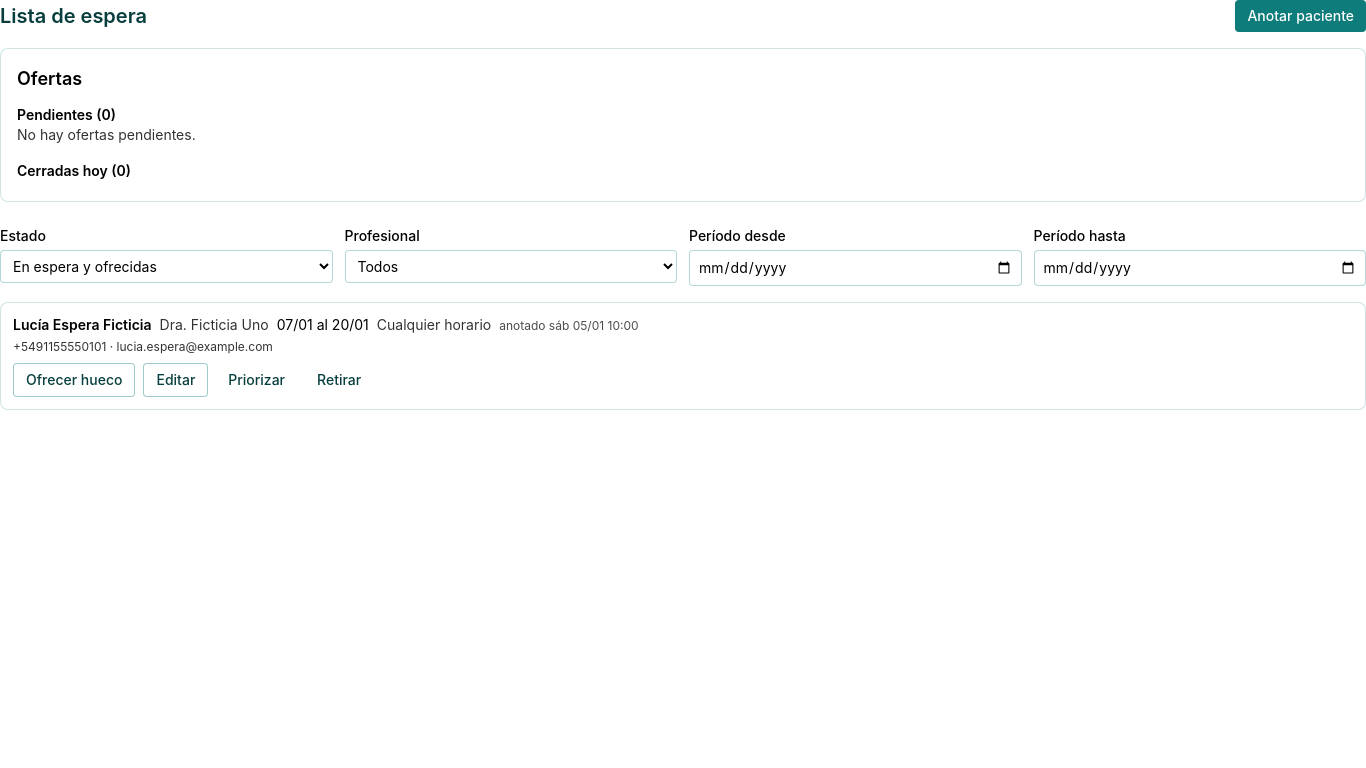
Test: EntryForm › ante already_waiting ofrece ir a la entrada existente
Click the button "Anotar paciente": (1301, 16) [1235,0,1365,32]
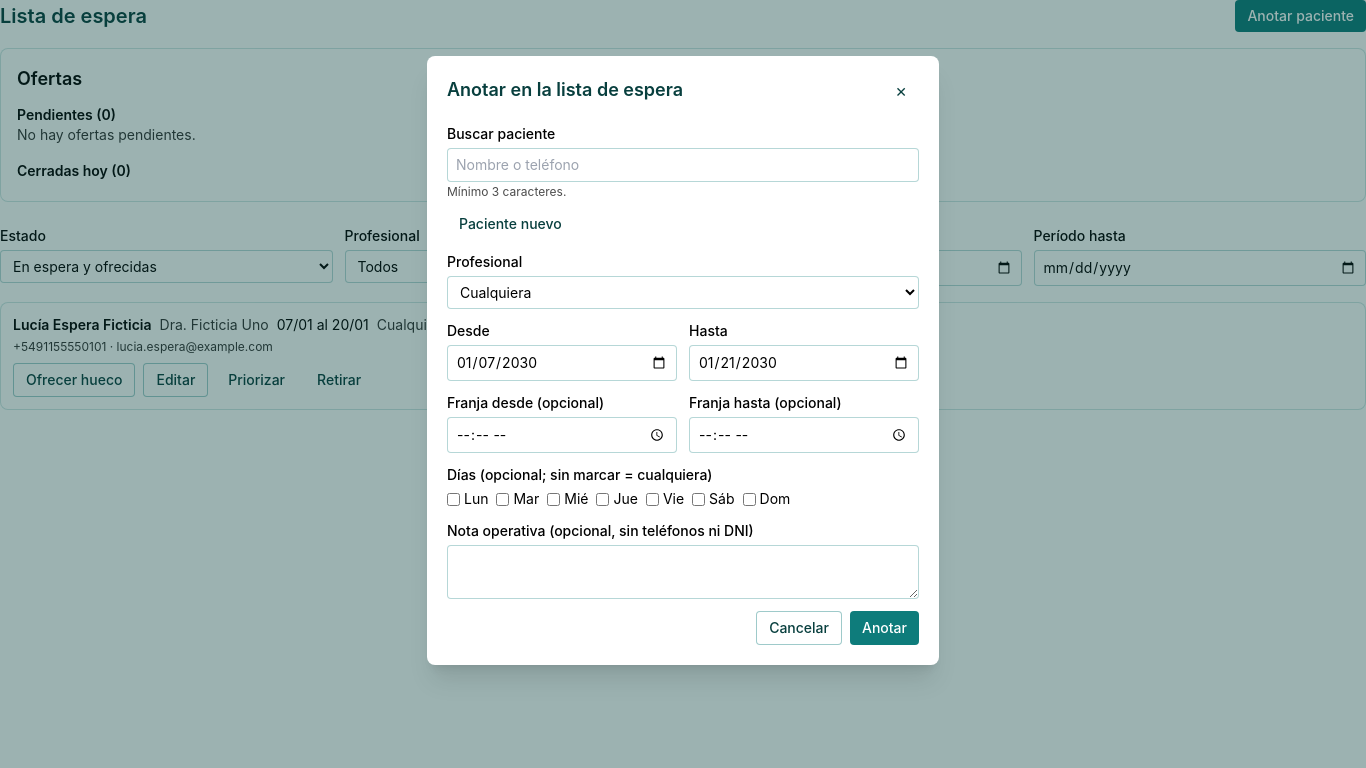
In the field labelled "Buscar paciente": (683, 165) [447,148,919,182], type "Nueva"
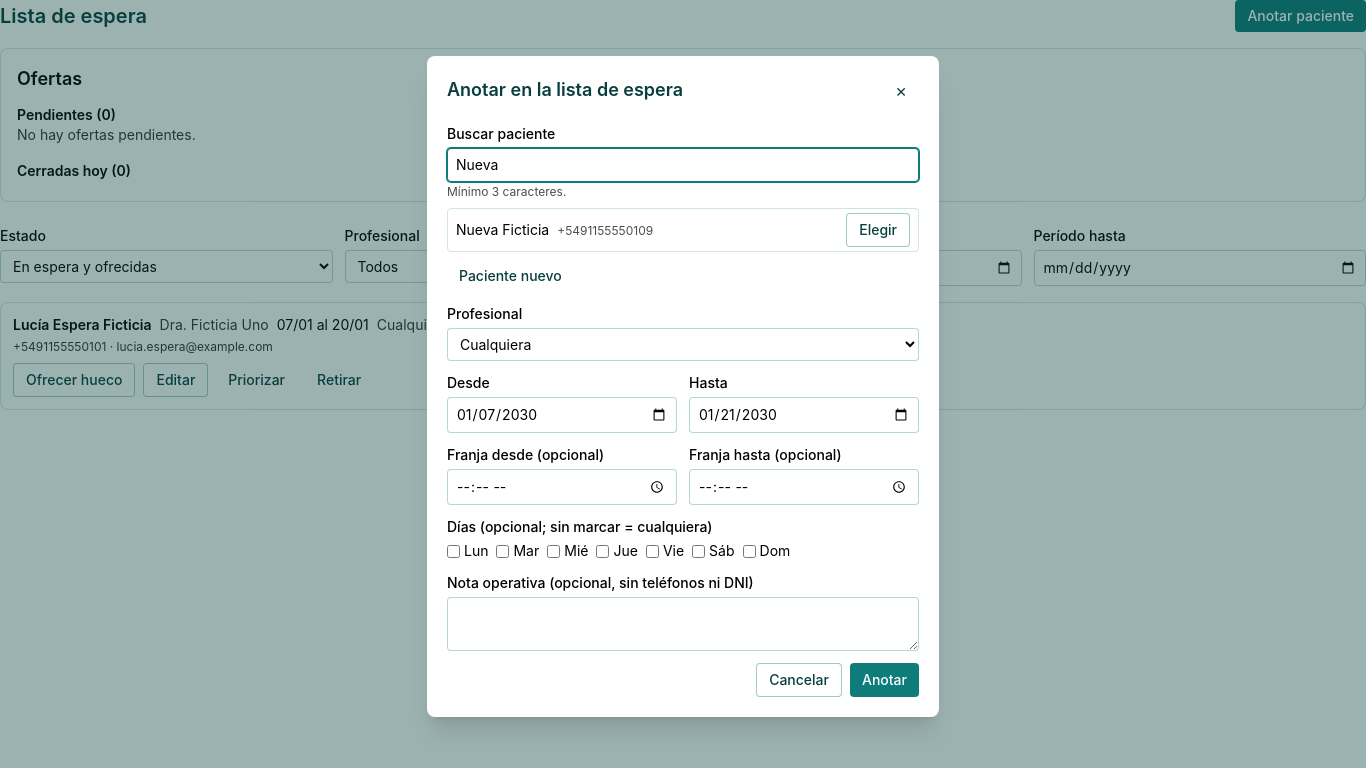
Click the button with aria-label "Elegir Nueva Ficticia": (878, 230) [846,213,910,247]
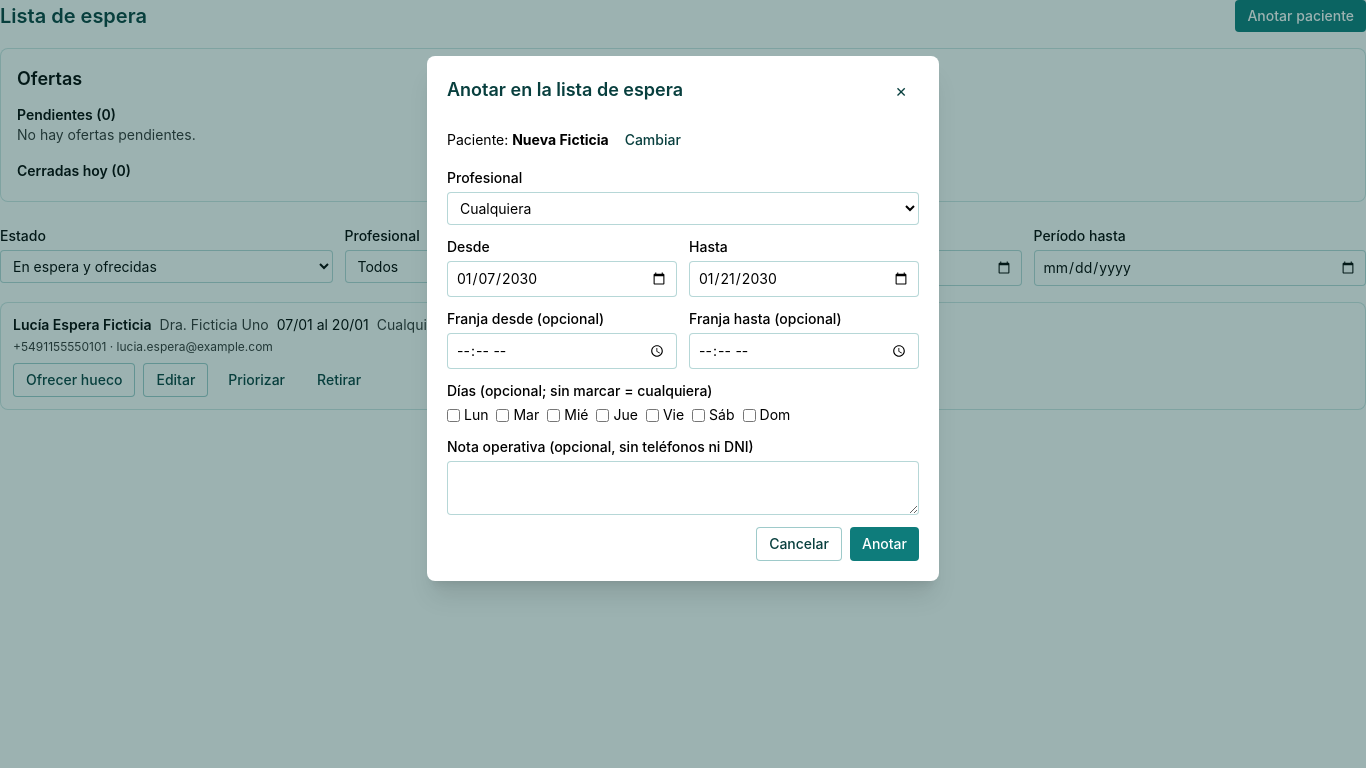
Click the button "Anotar": (884, 544) [850,527,919,561]
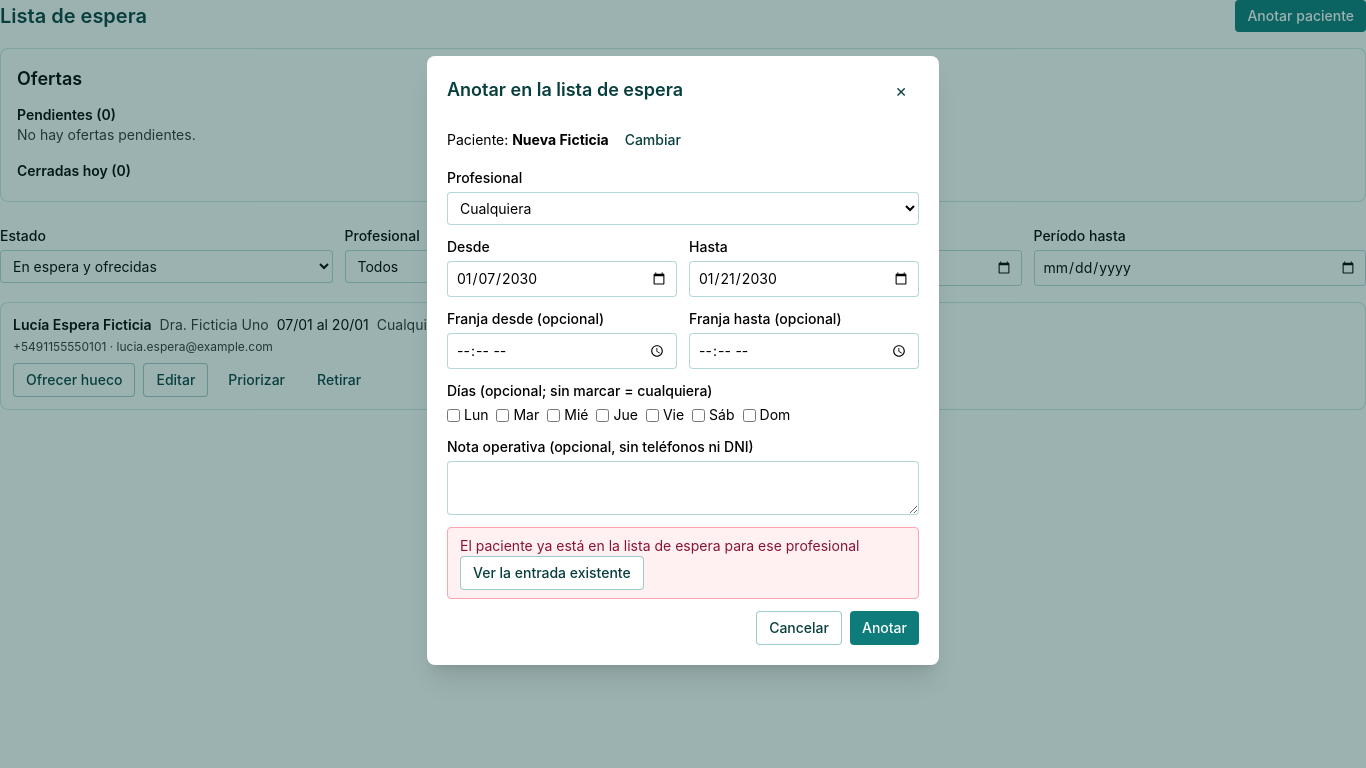
Check: the message shows "ya está en la lista", box [460,537,859,554]
Click the button "Ver la entrada existente": (552, 573) [460,556,644,590]
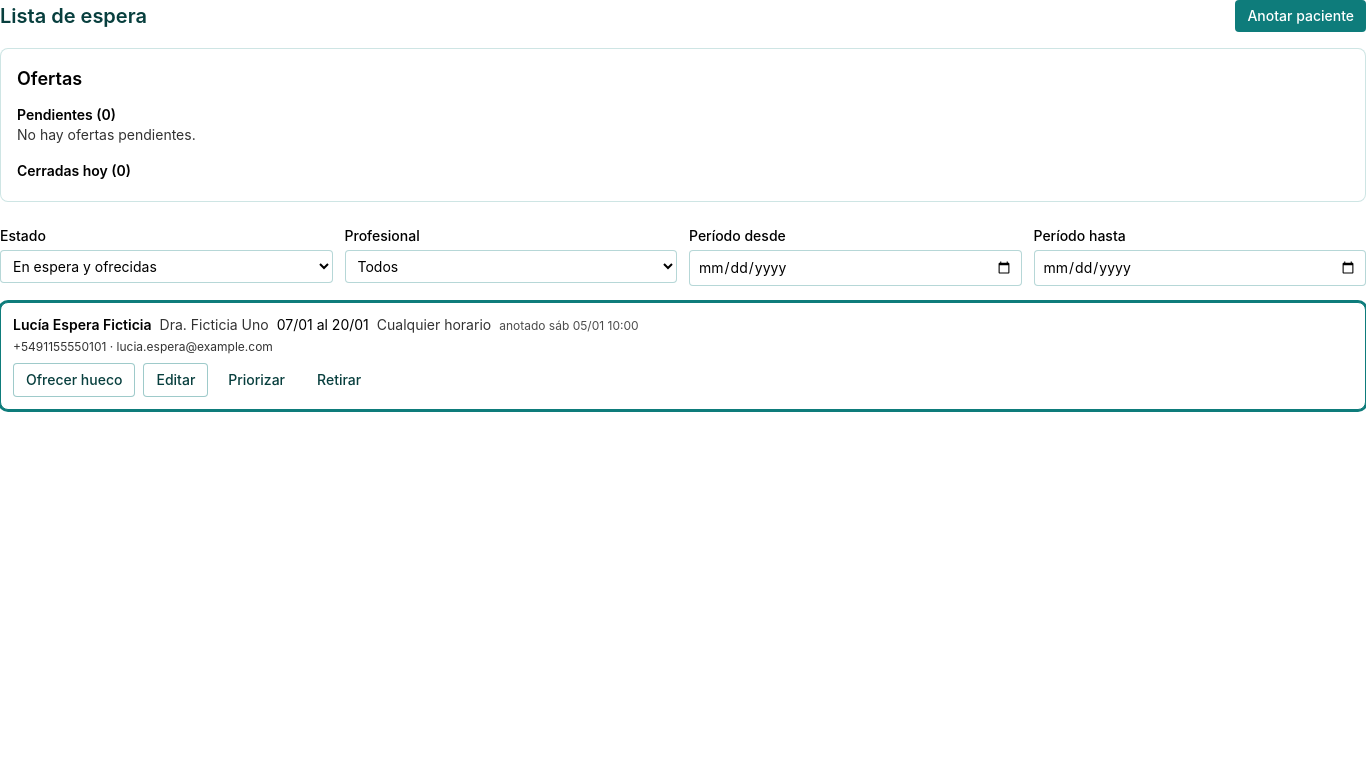
Check: the dialog is gone
